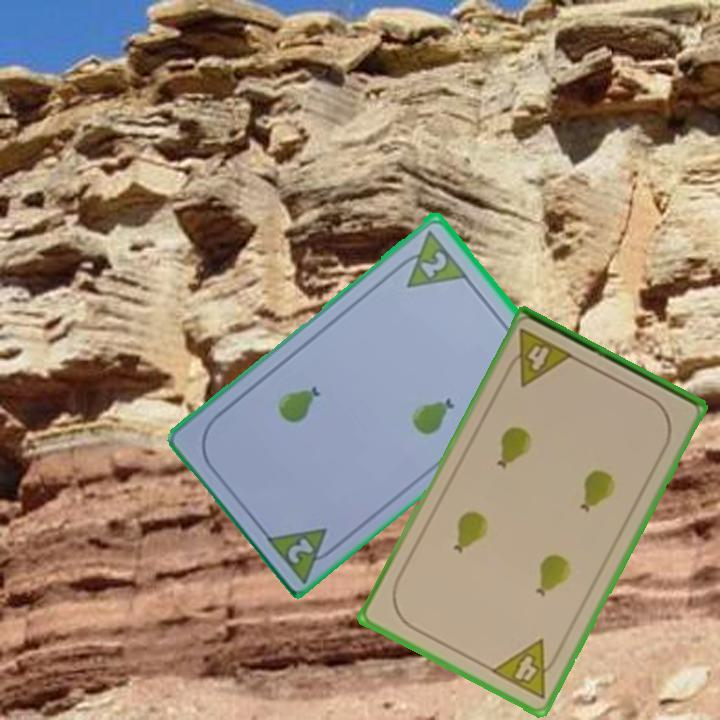2p: (390, 225, 470, 291), (261, 523, 344, 584)
4p: (487, 635, 565, 703), (501, 325, 577, 390)
